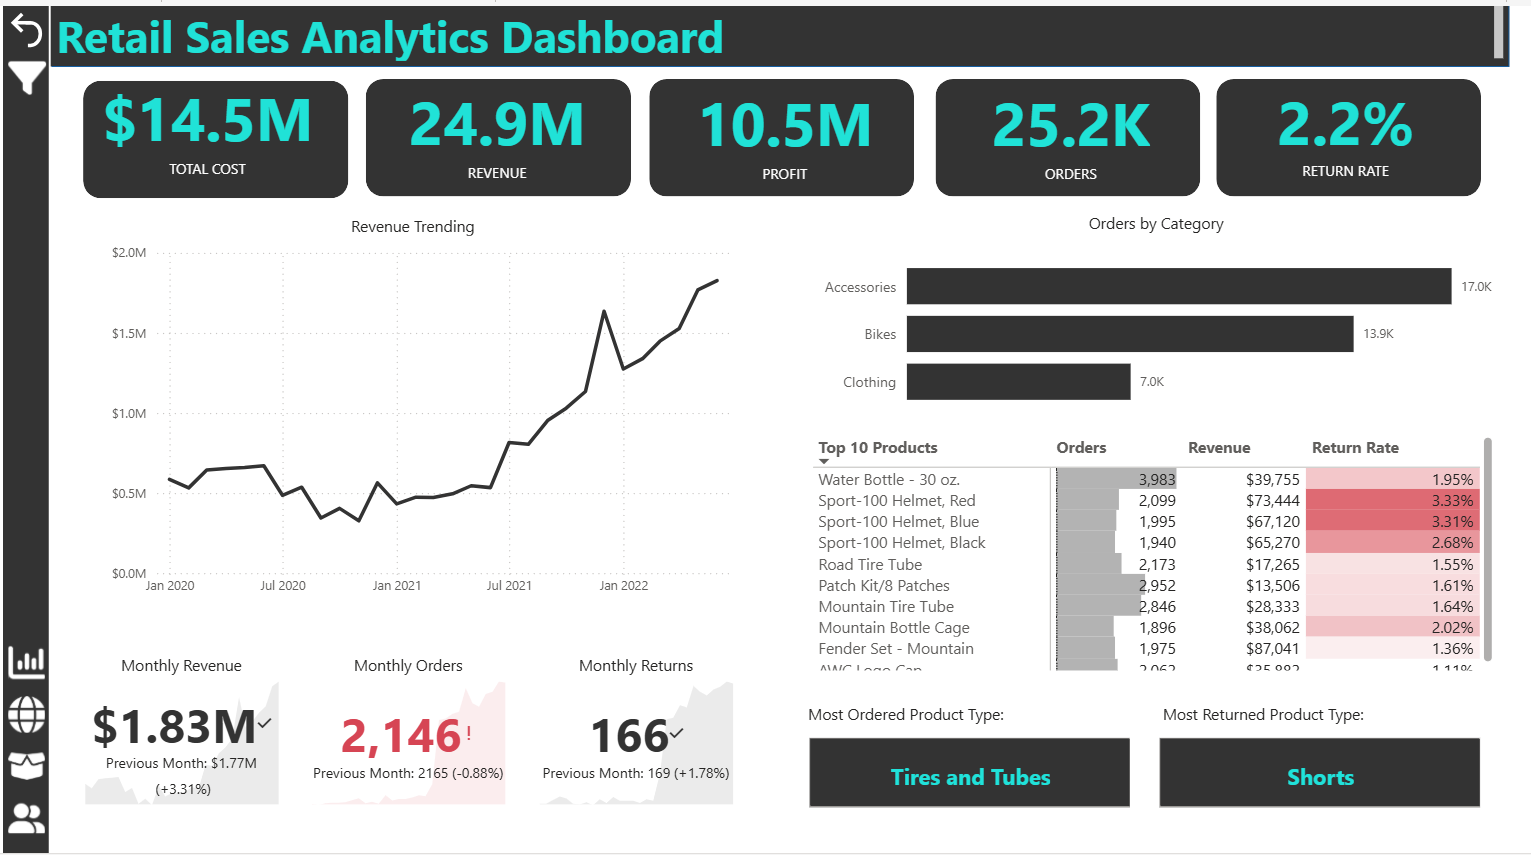

Layout of this report page (visuals, bound fields, positions):
{"tool":"powerbi","page":{"name":"Executive Dahsboard","canvas":[1280,720],"ordinal":0},"visuals":[{"type":"shape","title":"Left NV Background","box":[0,0,39.4,720.2],"z":0},{"type":"cardVisual","fields":{"Data":["Measure Table.Total Cost"]},"box":[53.6,44.5,239.1,107.7],"z":0,"group":"g3"},{"type":"group","id":"g1","title":"KPI Background","box":[67.5,58.1,1188.2,101.2],"z":0,"group":"g2"},{"type":"shape","box":[307.5,58.1,225.6,100],"z":0,"group":"g1"},{"type":"actionButton","box":[0,537.6,100,39.8],"z":0,"group":"g4"},{"type":"group","id":"g2","title":"KPIs","box":[53.6,30.8,1226.4,142.6],"z":1000},{"type":"group","id":"g3","title":"KPI Values","box":[53.6,30.8,1225.2,142.6],"z":1000,"group":"g2"},{"type":"cardVisual","fields":{"Data":["Measure Table.Total Revenue"]},"box":[280.9,31.4,277.1,141.7],"z":1000,"group":"g3"},{"type":"shape","box":[67.5,59.4,225.4,100],"z":1000,"group":"g1"},{"type":"actionButton","box":[0,581.7,100,39.8],"z":1000,"group":"g4"},{"type":"cardVisual","fields":{"Data":["Measure Table.Total Orders"]},"box":[776.2,32,261.5,141],"z":2000,"group":"g3"},{"type":"shape","box":[548.8,58.1,225.1,100],"z":2000,"group":"g1"},{"type":"lineChart","title":"Revenue Trending","fields":{"Y":["Measure Table.Total Revenue"],"Category":["Calendar Lookup.DateHierarchy.Start of Year","Calendar Lookup.DateHierarchy.Start of Month","Calendar Lookup.DateHierarchy.Start of Week","Calendar Lookup.DateHierarchy.Date"]},"box":[63.9,177.8,568.1,331.9],"z":2000},{"type":"actionButton","box":[0,625.8,100,39.8],"z":2000,"group":"g4"},{"type":"cardVisual","fields":{"Data":["Measure Table.Return Rate"]},"box":[1003.2,30.8,275.6,139.7],"z":3000,"group":"g3"},{"type":"shape","box":[1030.4,58.1,225.1,100],"z":3000,"group":"g1"},{"type":"kpi","title":"Monthly Revenue","fields":{"Indicator":["Measure Table.Total Revenue"],"TrendLine":["Calendar Lookup.Start of Month"],"Goal":["Measure Table.Previous Month Revenue"]},"box":[64.1,550.5,174.8,133],"z":3000},{"type":"actionButton","box":[0,669.9,100,39.8],"z":3000,"group":"g4"},{"type":"cardVisual","fields":{"Data":["Measure Table.Total Profit"]},"box":[526.2,32.4,275.6,141],"z":4000,"group":"g3"},{"type":"shape","box":[791.9,58.1,225.1,100],"z":4000,"group":"g1"},{"type":"kpi","title":"Monthly Orders","fields":{"TrendLine":["Calendar Lookup.Start of Month"],"Indicator":["Measure Table.Total Orders"],"Goal":["Measure Table.Previous Month Order"]},"box":[257.3,550.5,174.8,133],"z":4000},{"type":"kpi","title":"Monthly Returns","fields":{"TrendLine":["Calendar Lookup.Start of Month"],"Indicator":["Measure Table.Total Returns"],"Goal":["Measure Table.Previous Month Returns"]},"box":[450.5,550.5,174.8,133],"z":5000},{"type":"clusteredBarChart","title":"Orders by Category","fields":{"Category":["Product Categories Lookup.CategoryName"],"Y":["Measure Table.Total Orders"]},"box":[687.5,175,584.7,181.9],"z":6000},{"type":"pivotTable","fields":{"Rows":["Product Lookup.ProductName"],"Values":["Measure Table.Total Orders","Measure Table.Total Revenue","Measure Table.Return Rate"]},"box":[682.8,360.2,588.2,209.7],"z":7000},{"type":"cardVisual","fields":{"Data":["Min(Product Subcategories Lookup.SubcategoryName)"]},"box":[679.7,616.5,283.5,69.6],"z":8000},{"type":"textbox","box":[679.6,568.8,584.9,48.4],"z":9000},{"type":"cardVisual","fields":{"Data":["Min(Product Subcategories Lookup.SubcategoryName)"]},"box":[977.2,616.5,283.5,69.6],"z":10000},{"type":"textbox","box":[980.6,568.8,298.9,48.4],"z":11000},{"type":"actionButton","box":[0,0,100,39.6],"z":12000},{"type":"group","id":"g4","title":"Navigation Buttons","box":[0,537.6,100,172],"z":13000},{"type":"actionButton","box":[0,40.4,100,40.4],"z":14000},{"type":"shape","box":[41.2,0,1238.8,51.8],"z":16000},{"type":"textbox","box":[40.3,0,1238.9,51.4],"z":17000}]}

Visuals, with their boxes on the page's 1280x720 design canvas (x1, y1, x2, y2). These are canvas units, not pixel positions in the 1531x855 screenshot, which may show the page scaled, cropped or inside an application window:
"Left NV Background" shape: 0/0/39/720
cardVisual - Measure Table.Total Cost: 54/44/293/152
"KPI Background" group: 68/58/1256/159
shape: 308/58/533/158
actionButton: 0/538/100/577
"KPIs" group: 54/31/1280/173
"KPI Values" group: 54/31/1279/173
cardVisual - Measure Table.Total Revenue: 281/31/558/173
shape: 68/59/293/159
actionButton: 0/582/100/622
cardVisual - Measure Table.Total Orders: 776/32/1038/173
shape: 549/58/774/158
"Revenue Trending" lineChart: 64/178/632/510
actionButton: 0/626/100/666
cardVisual - Measure Table.Return Rate: 1003/31/1279/170
shape: 1030/58/1256/158
"Monthly Revenue" kpi: 64/550/239/684
actionButton: 0/670/100/710
cardVisual - Measure Table.Total Profit: 526/32/802/173
shape: 792/58/1017/158
"Monthly Orders" kpi: 257/550/432/684
"Monthly Returns" kpi: 450/550/625/684
"Orders by Category" clusteredBarChart: 688/175/1272/357
pivotTable - Product Lookup.ProductName x Measure Table.Total Orders: 683/360/1271/570
cardVisual - Min(Product Subcategories Lookup.SubcategoryName): 680/616/963/686
textbox: 680/569/1264/617
cardVisual - Min(Product Subcategories Lookup.SubcategoryName): 977/616/1261/686
textbox: 981/569/1280/617
actionButton: 0/0/100/40
"Navigation Buttons" group: 0/538/100/710
actionButton: 0/40/100/81
shape: 41/0/1280/52
textbox: 40/0/1279/51
